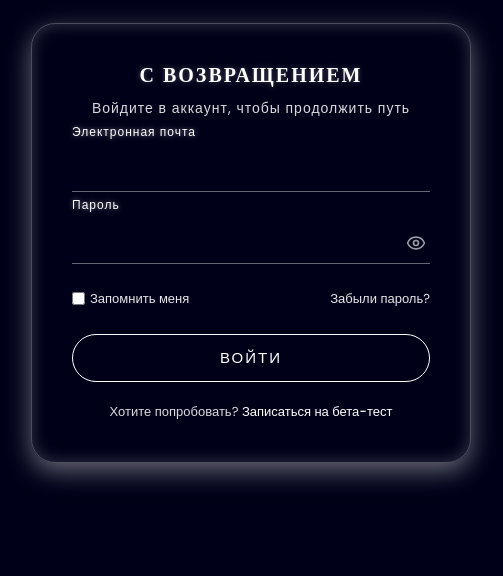
Test: SignIn › shows error for invalid email format
The image size is (503, 576).
Type "not-an-email" into the field labelled "Электронная почта". click: (251, 168)
box: x1=72 y1=144 x2=430 y2=192
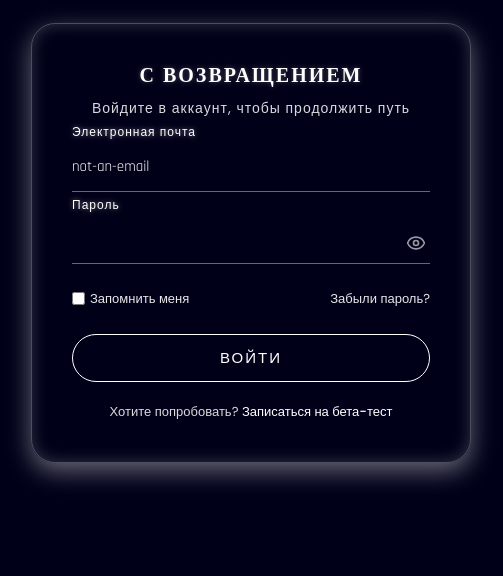
Type "password123" into the password field labelled "Пароль". click: (251, 240)
box: x1=72 y1=216 x2=430 y2=264
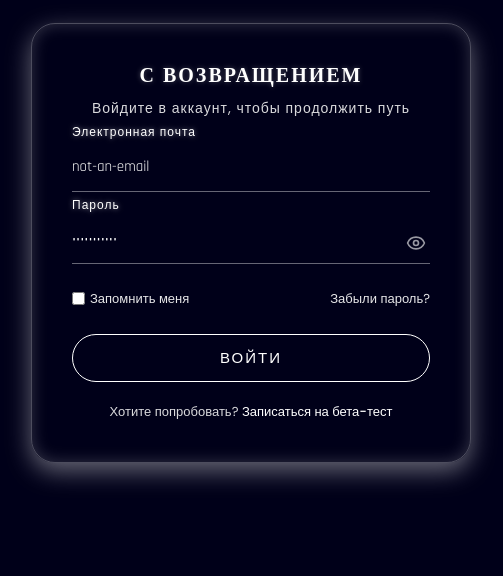
Submit the form labelled "Электронная почта", box x1=72 y1=144 x2=430 y2=382
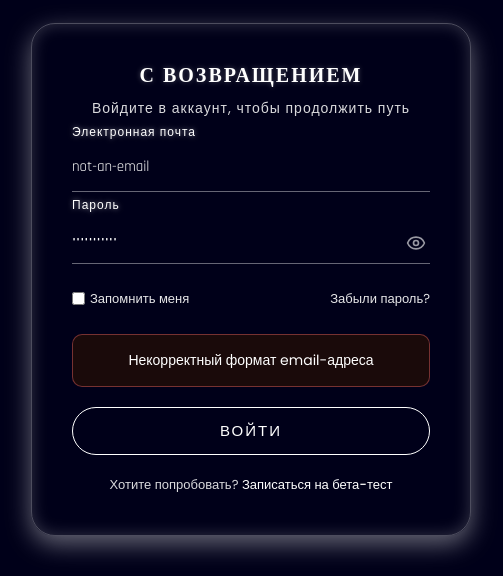
Check: the text "Некорректный формат email-адреса" is shown, box x1=72 y1=334 x2=430 y2=386
